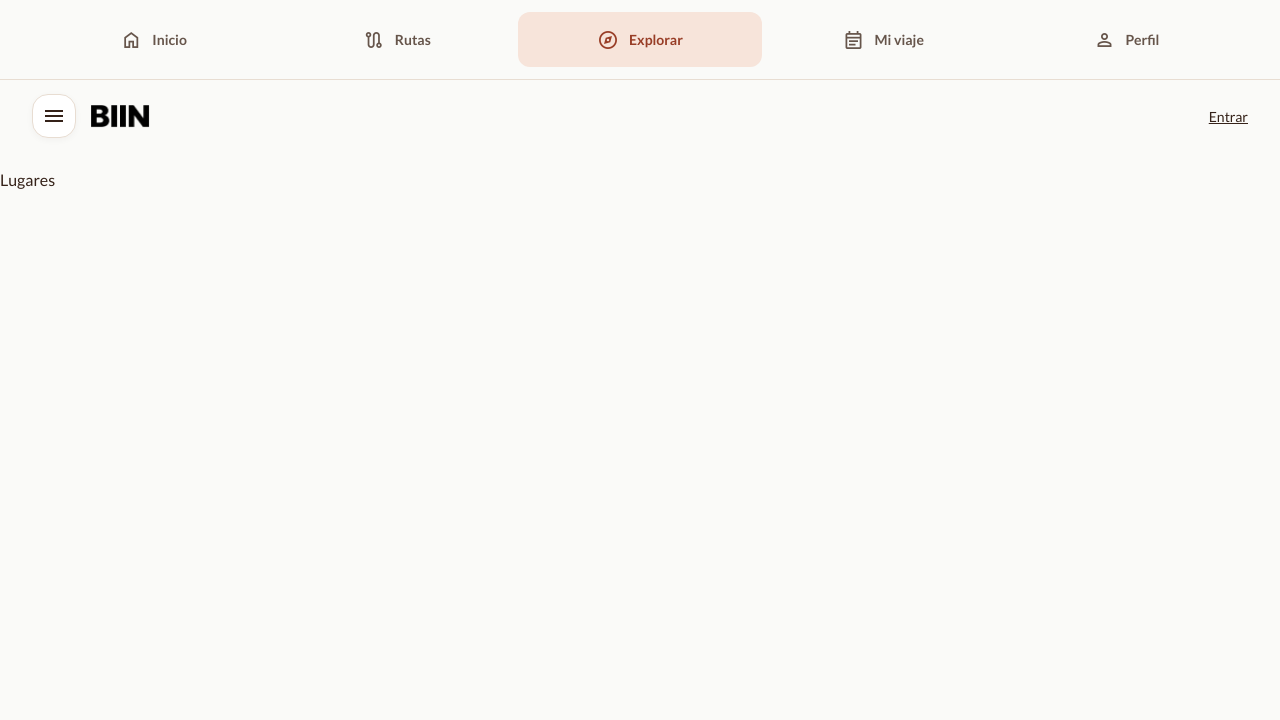
Scenario: LogoBiin › mantiene el enlace de marca y la imagen en el menú BIIN
Click the button named "Abrir menú": (54, 116) x1=32 y1=94 x2=76 y2=138
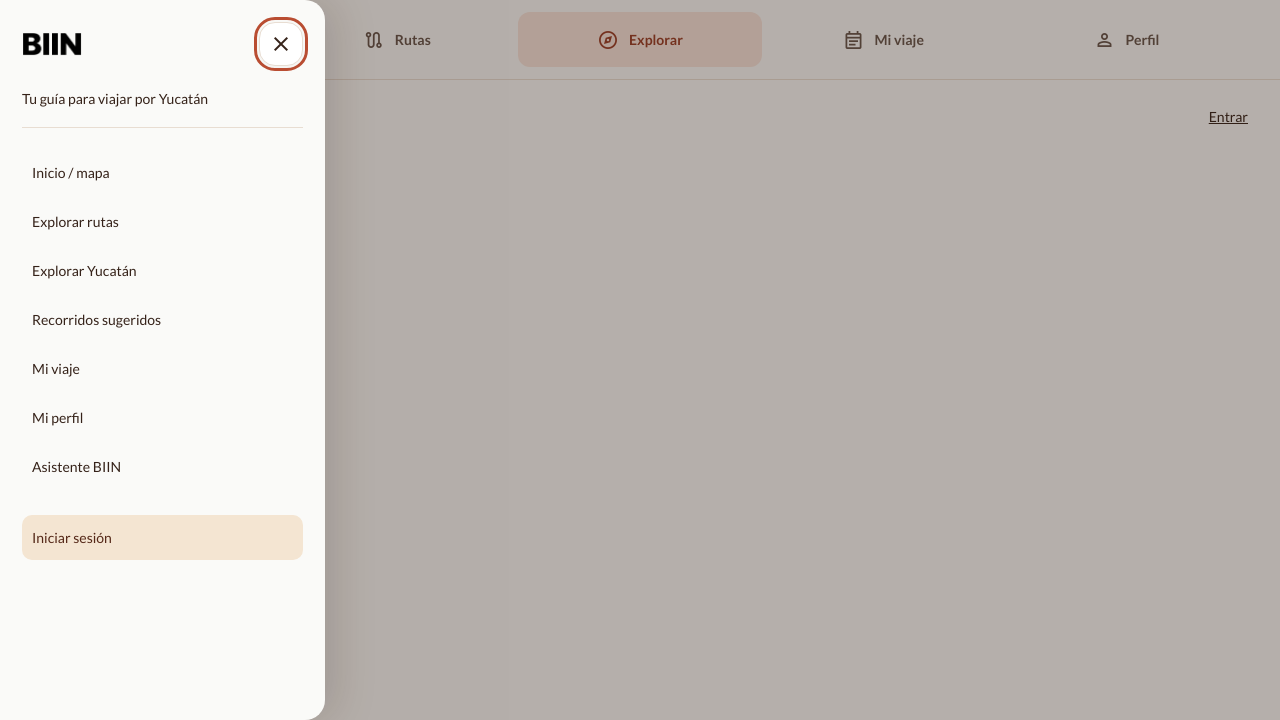
Expected: the number of pictures named "BIIN" is 2, x1=90 y1=104 x2=150 y2=128; x1=22 y1=32 x2=82 y2=56
